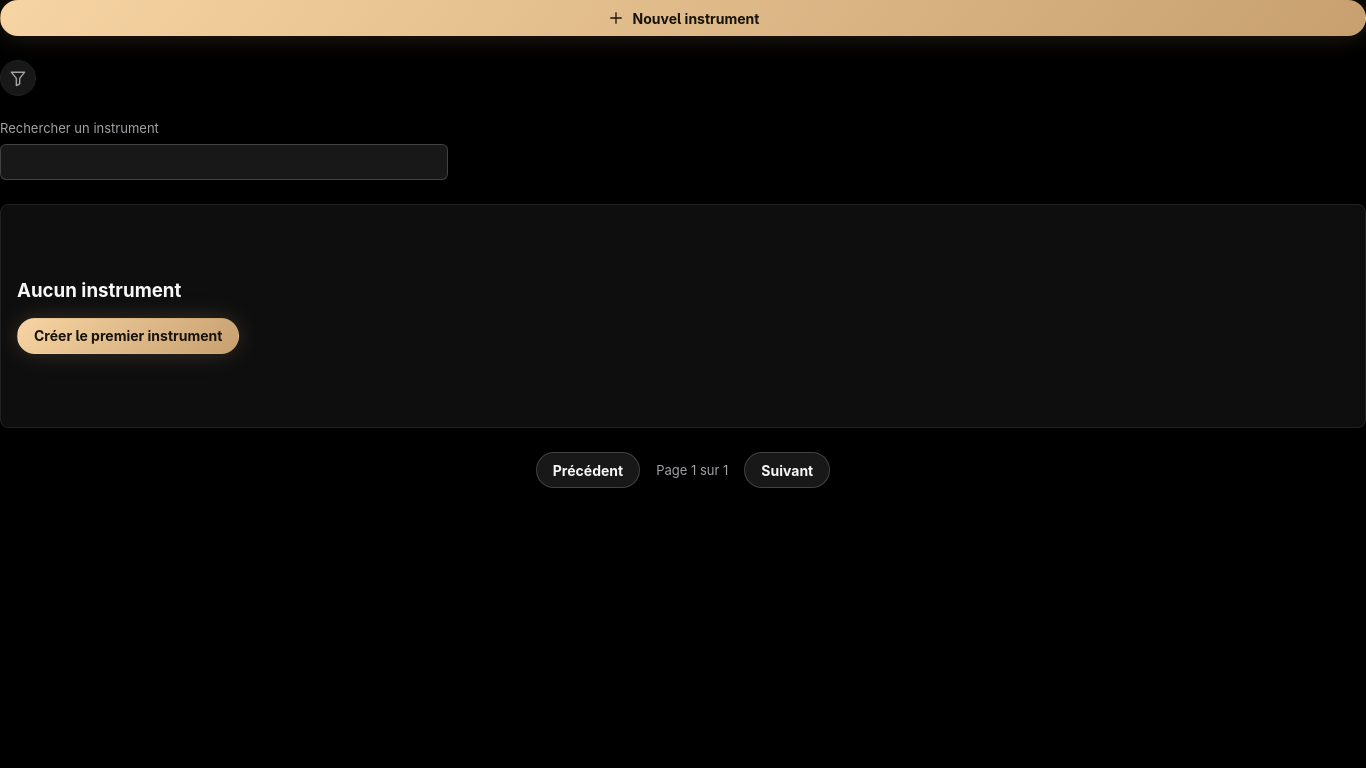
it: InstrumentsPage › validates the required name and identifier before creating
Click the button "Créer le premier instrument": (128, 336) [17,318,239,354]
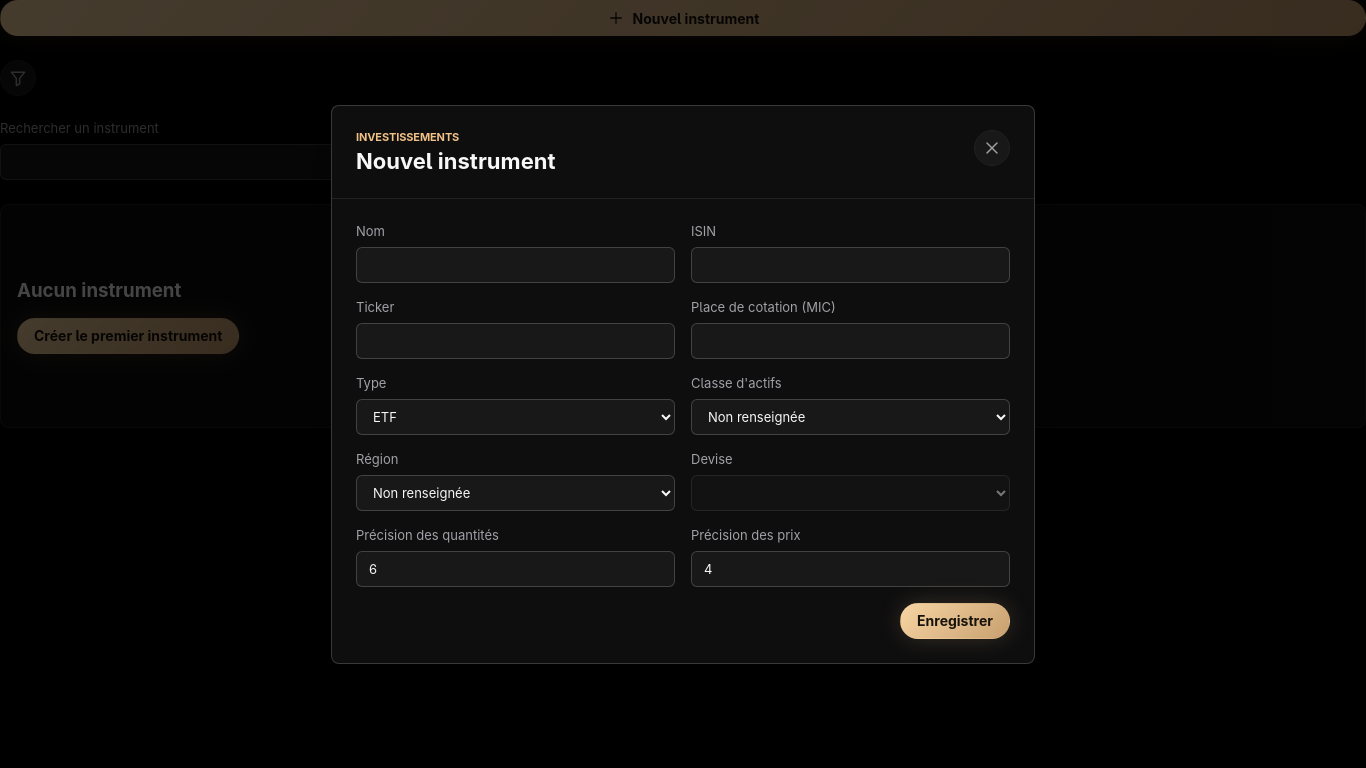
Click the button "Enregistrer": (955, 620) [900,602,1010,638]
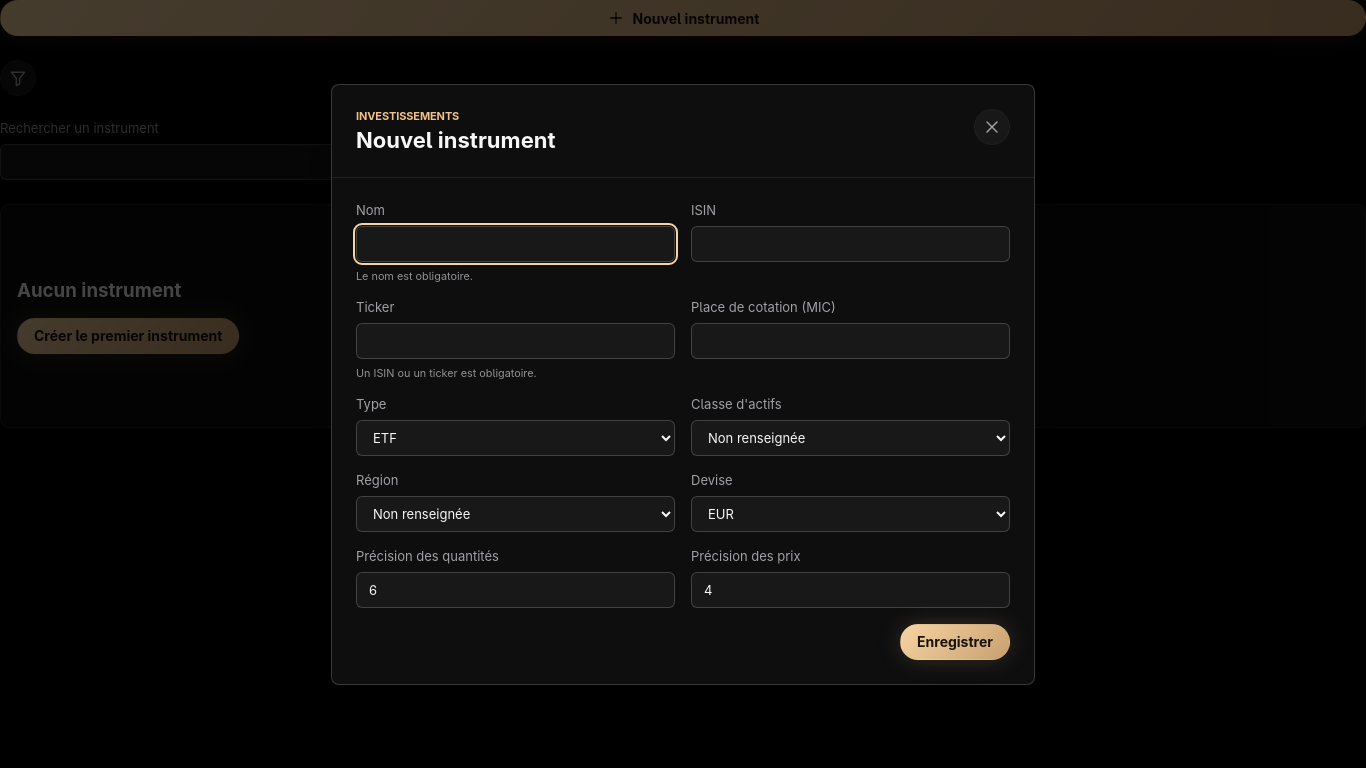
Expected: the text "Le nom est obligatoire." is shown, [356,270,473,282]
Expected: the text "Un ISIN ou un ticker est obligatoire." is shown, [356,366,537,380]
